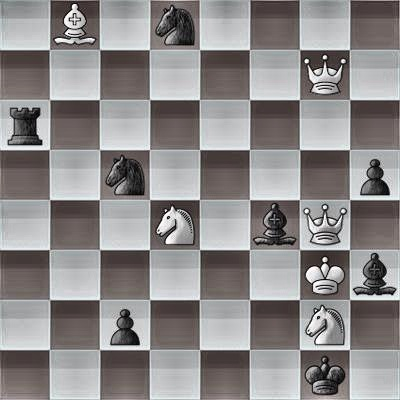black-bishop: (250, 200, 300, 250), (350, 250, 400, 300)
black-king: (300, 350, 350, 400)
black-knight: (150, 0, 200, 50), (100, 150, 150, 200)
black-pawn: (350, 150, 400, 200), (100, 300, 150, 350)
black-rook: (0, 100, 50, 150)
white-bishop: (50, 0, 100, 50)
white-king: (300, 250, 350, 300)
white-knight: (150, 200, 200, 250), (300, 300, 350, 350)
white-queen: (300, 50, 350, 100), (300, 200, 350, 250)
